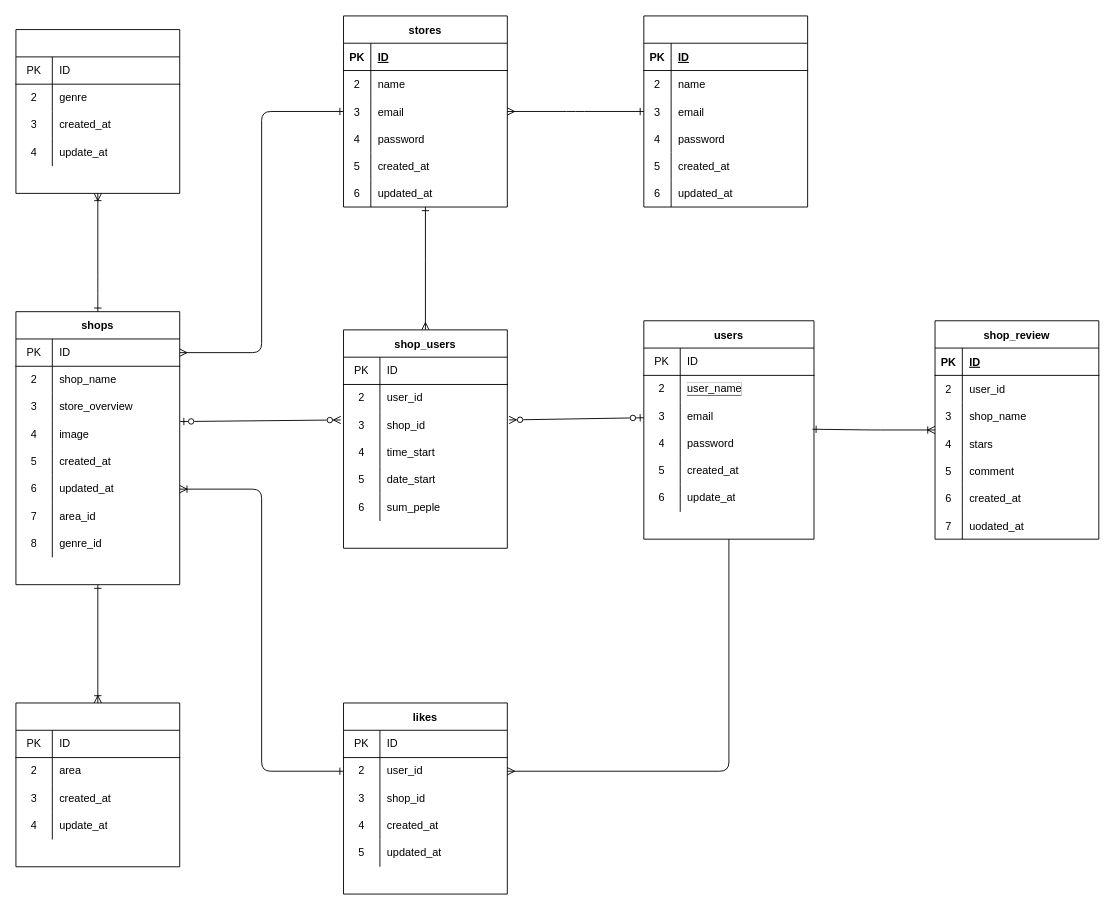
Image size: 1115x910. Some labels were removed from this diagram. Each missing label, with the box of its shape:
admins: (643, 15, 808, 207)
areas: (15, 702, 180, 867)
genres: (15, 29, 180, 193)
